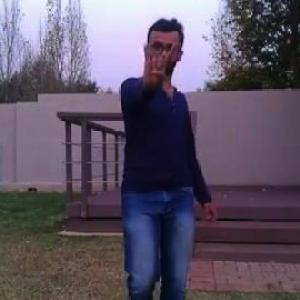takeoff-hand: (131, 34, 175, 90)
